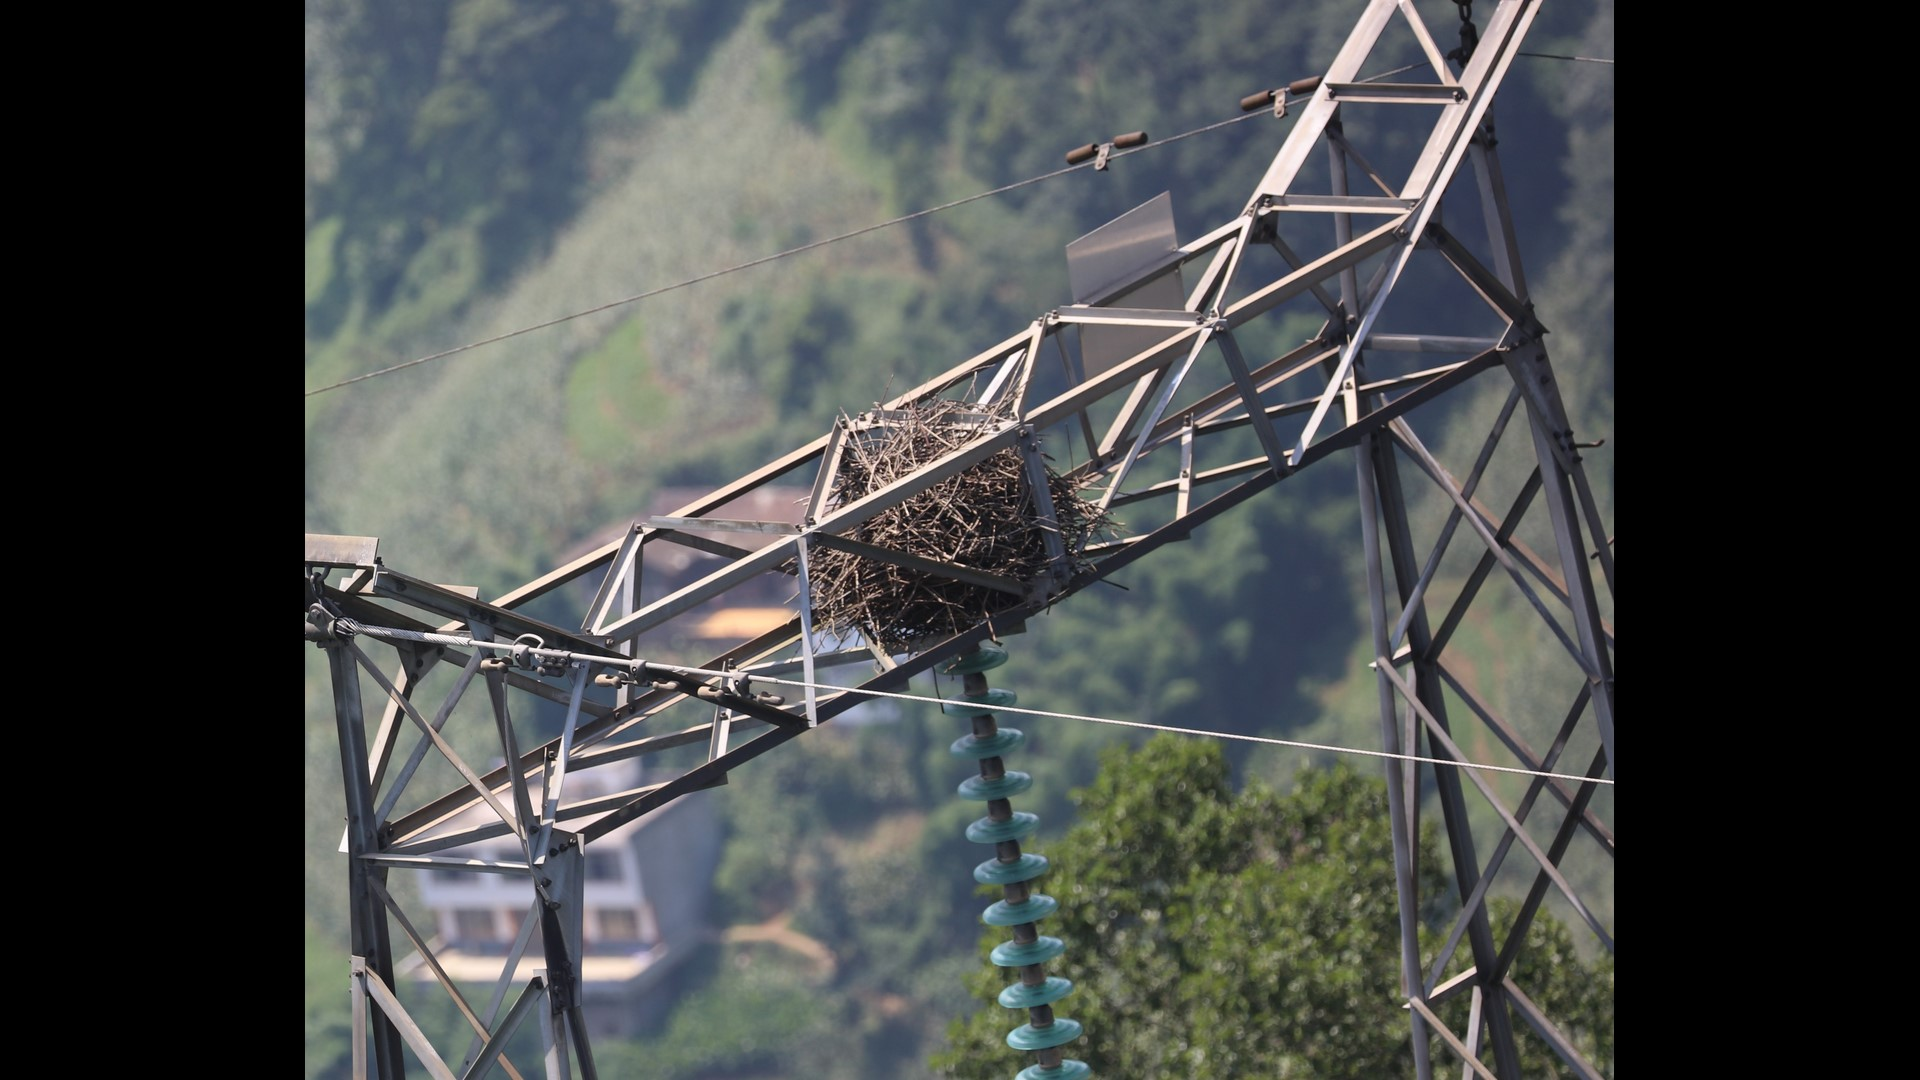niaowo: (793, 388, 1120, 655)
